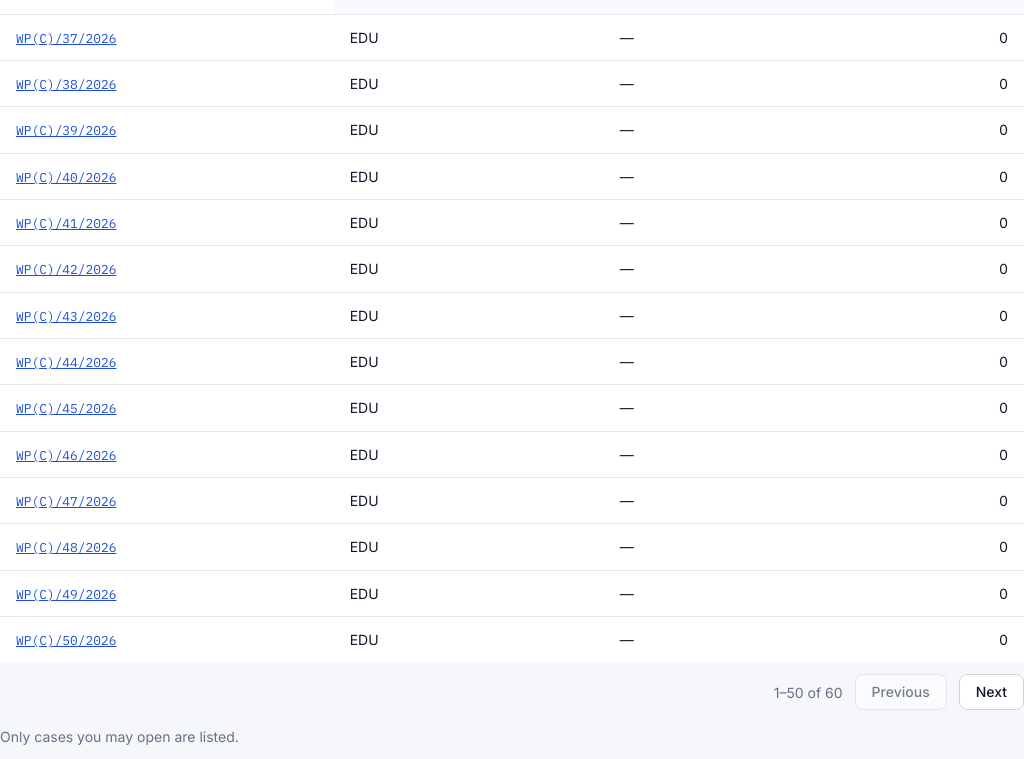
it: sections render from columns › case rows link to the case page and are paged by 50
The width and height of the screenshot is (1024, 759).
(page scrolled)
Click the button "Next": (991, 692) [959,674,1023,710]
(page scrolled)
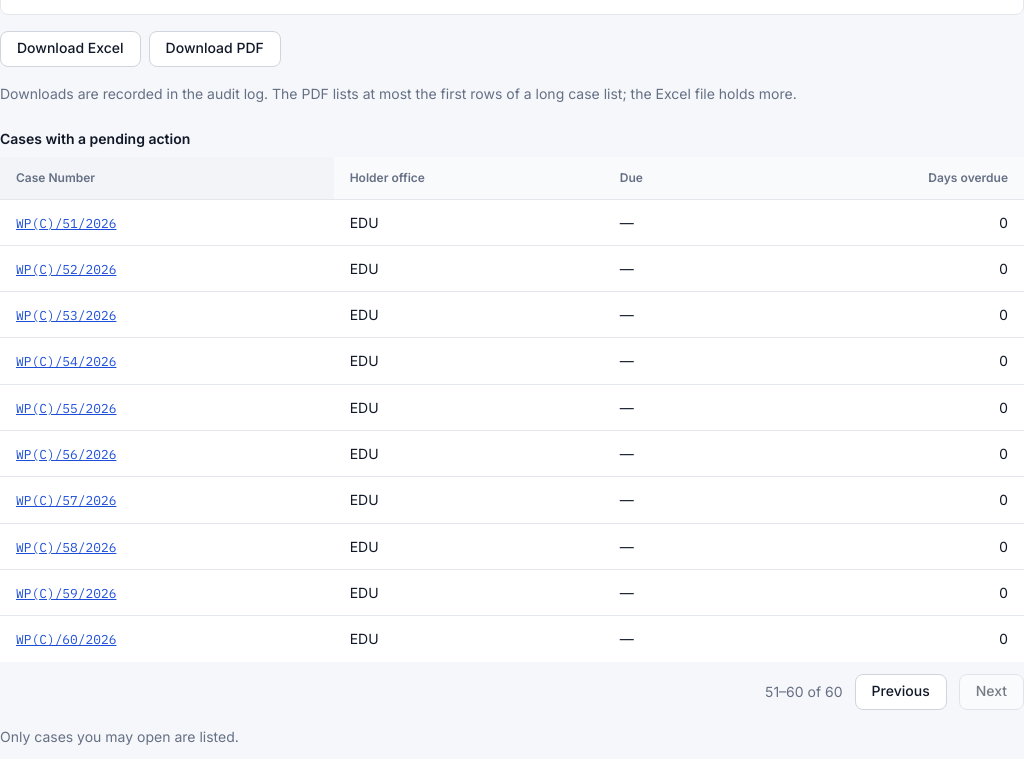
Check: the link "WP(C)/60/2026" is shown, box [16,631,116,648]
